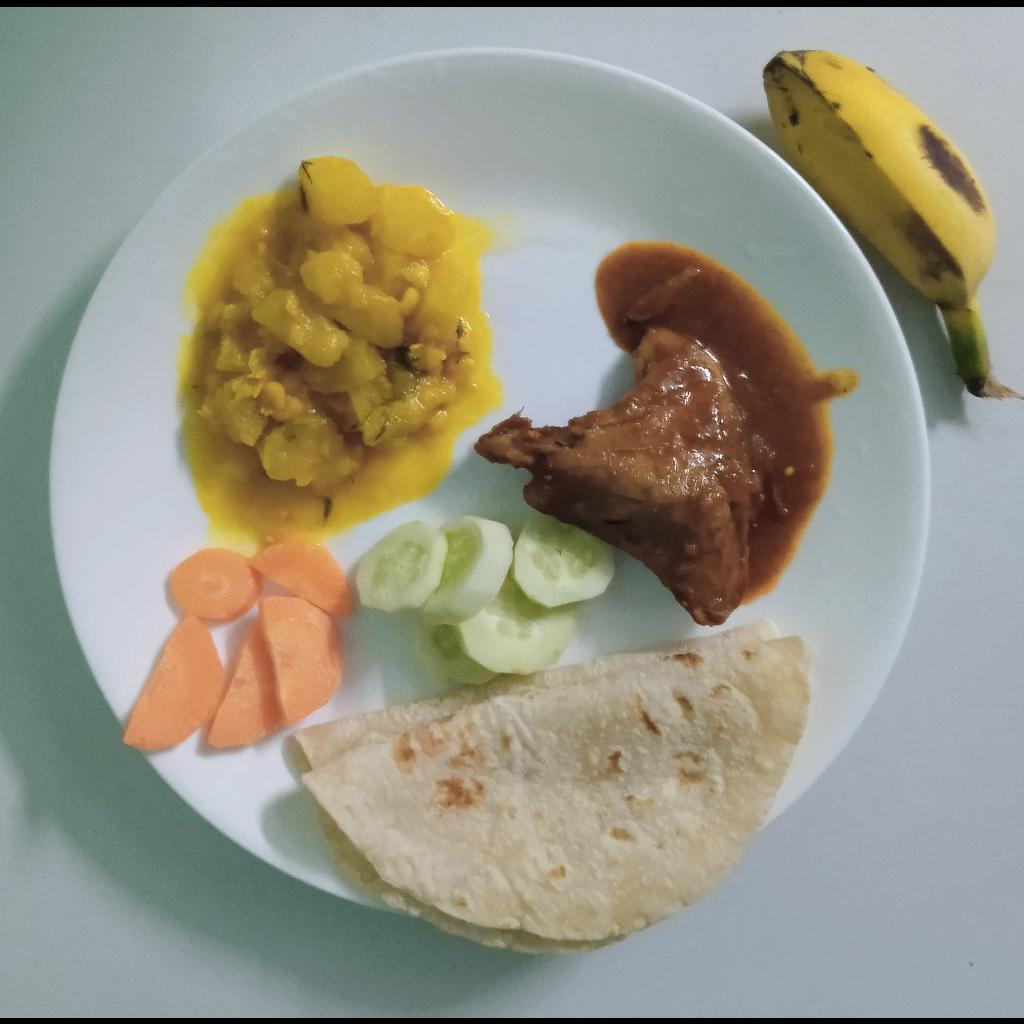banana: (763, 48, 997, 375)
carrot: (121, 537, 356, 753)
chicken: (476, 327, 773, 627)
cucumber: (353, 512, 615, 682)
lau: (191, 153, 466, 524)
ruti: (295, 619, 810, 954)
